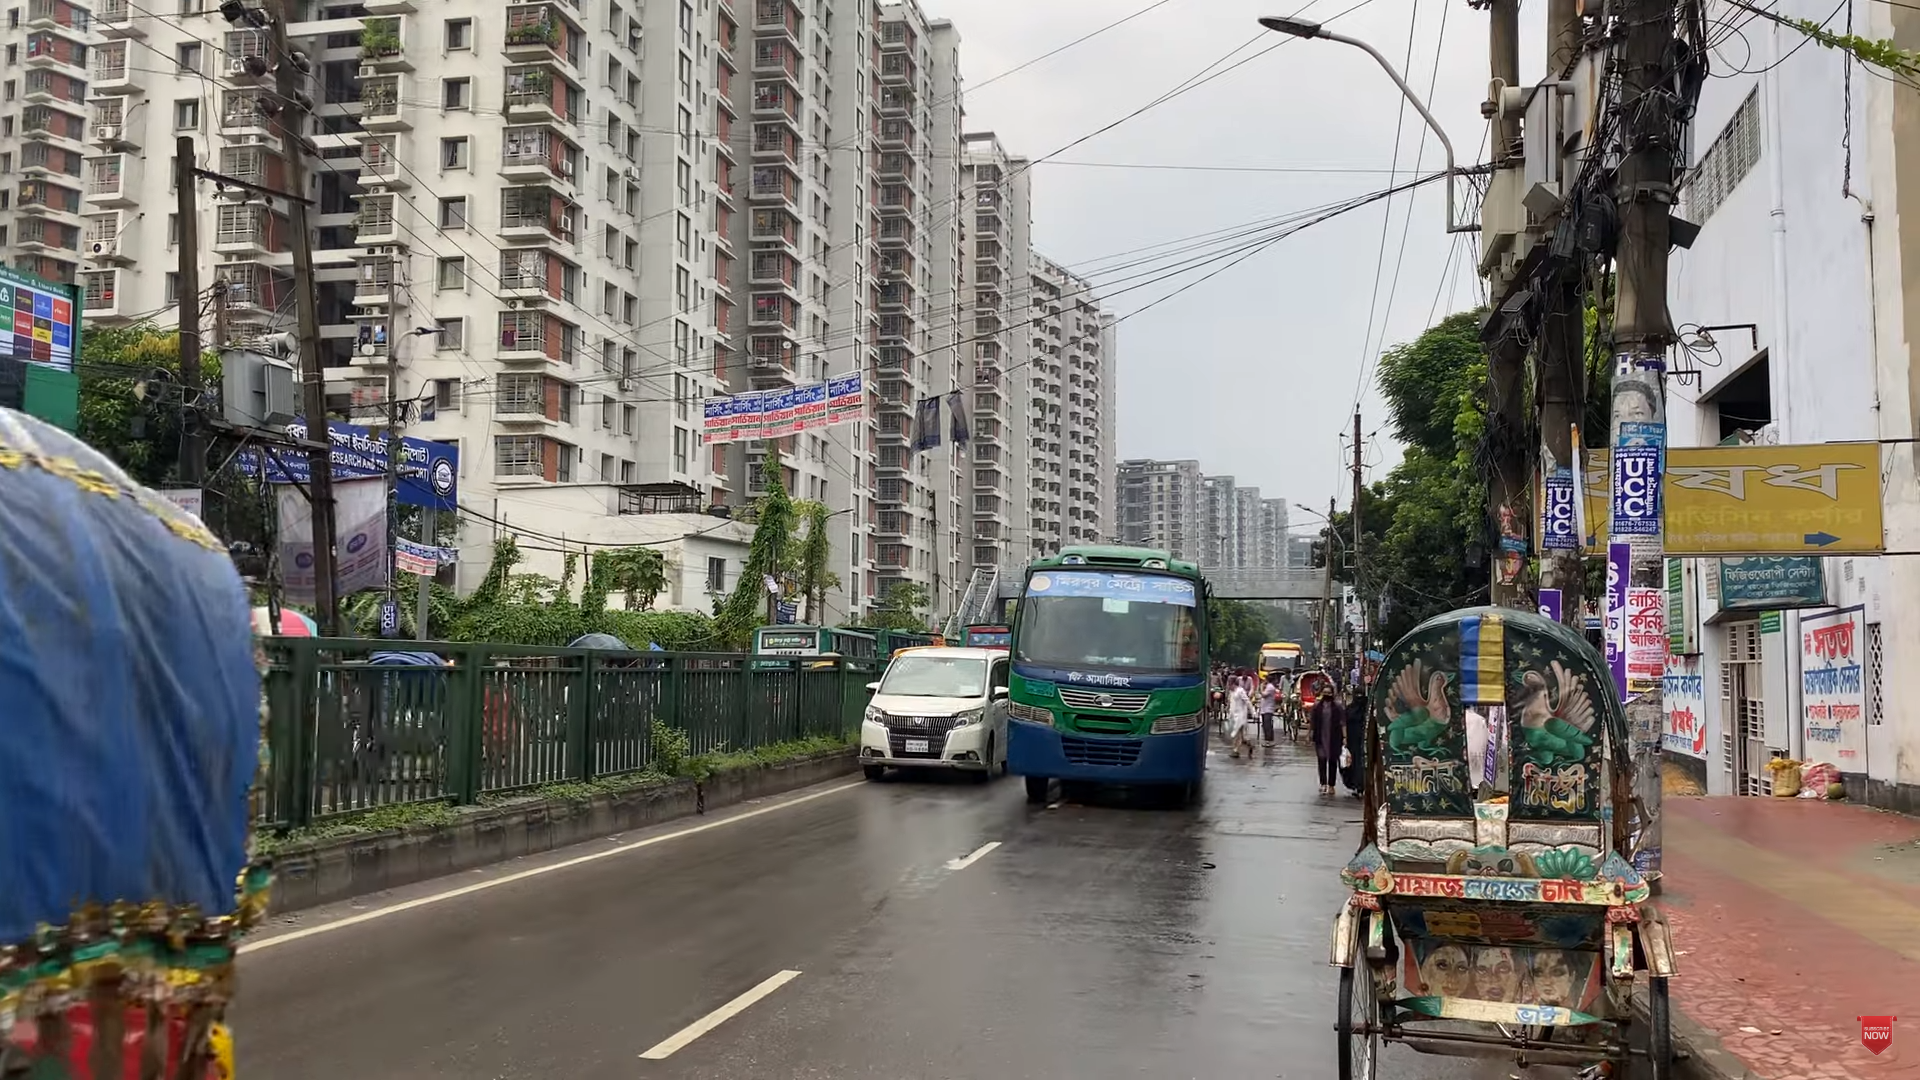Bus: (997, 541, 1221, 810)
Car: (864, 642, 992, 770)
Rickshaw: (1327, 604, 1677, 1080)
